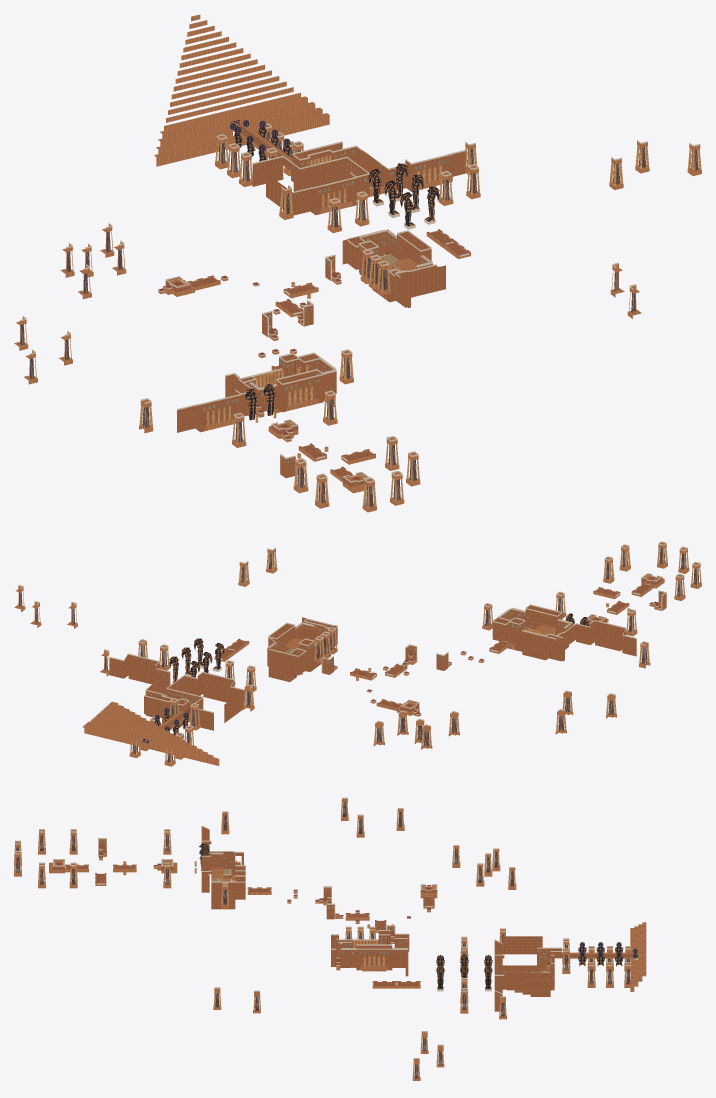
Rendered from SandOcean.obj.
The picture shows the model from 3 angles, top to bottom: view 1: azimuth 30°, elevation 25°; view 2: azimuth 150°, elevation 25°; view 3: azimuth 270°, elevation 25°; orthographic projection. The views are drawn at different scales.
Size of the model in its own units: 7900 by 1150 by 8630.
15 materials, 15 textured.
